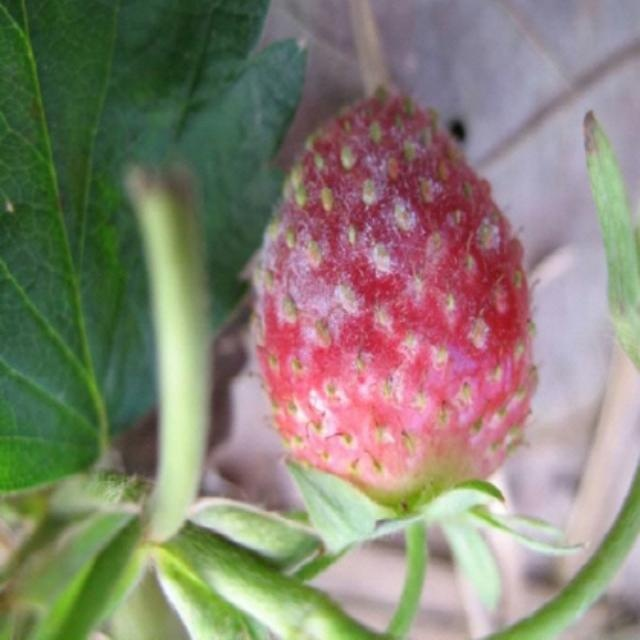Powdery Mildew Fruit: (252, 87, 540, 529)
